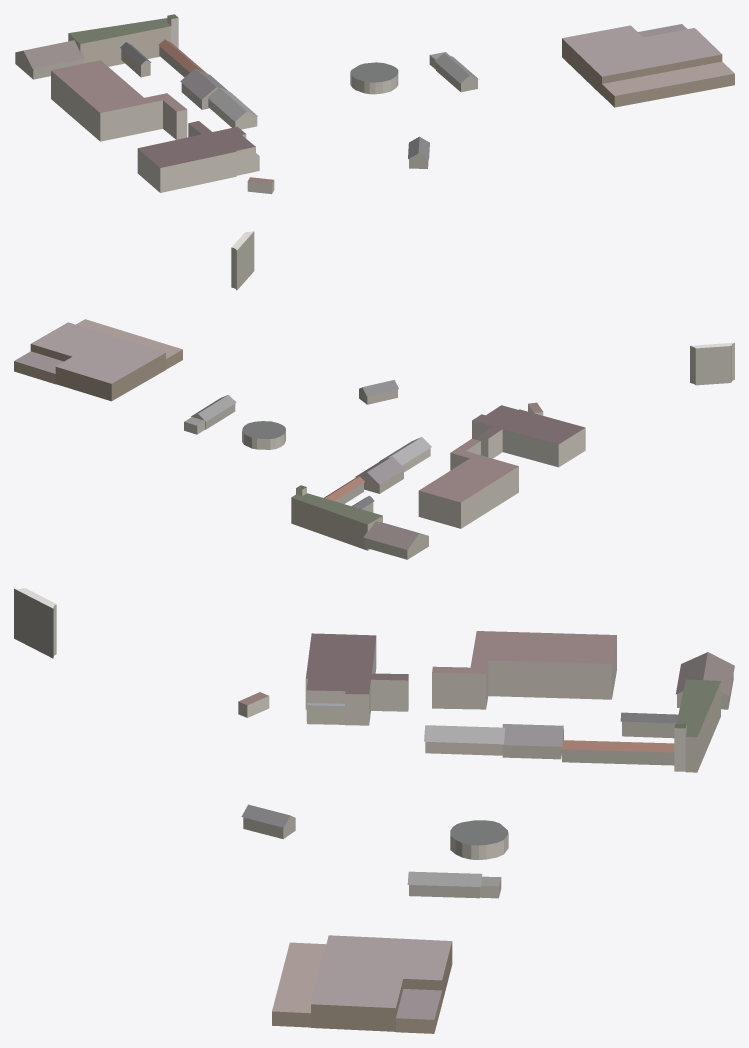
3 views of the same model, one above another, from view 1: azimuth 30°, elevation 25°; view 2: azimuth 150°, elevation 25°; view 3: azimuth 270°, elevation 25° (orthographic). The views are drawn at different scales.
Parts seen in each view (by area): view 1: tuile; view 2: tuile; view 3: tuile.
Part boxes in pixels (x1,y1,x2,y2): tuile: (15,14,734,290); tuile: (14,319,734,559); tuile: (14,588,734,1033).
Bounding box in the file's own units: 228 × 20.41 × 186.
